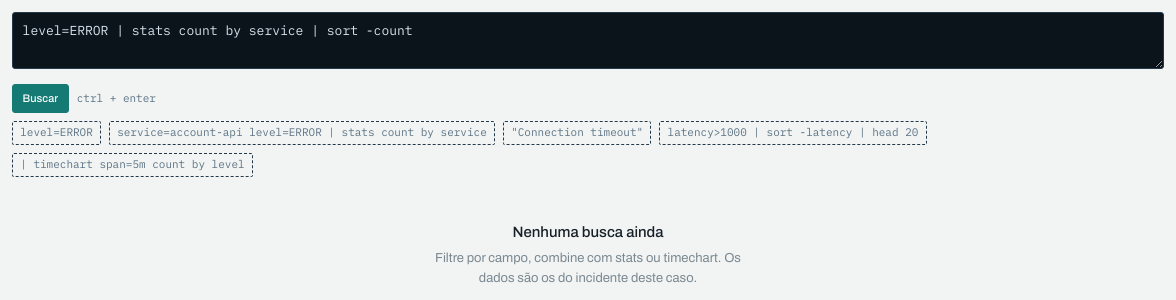
Scenario: LogSearch › mostra o erro de sintaxe da mini-linguagem em vez de sumir com tudo
This screenshot has width=1176, height=300.
Click the button "Buscar" at (40, 99), box [12,84,69,113]
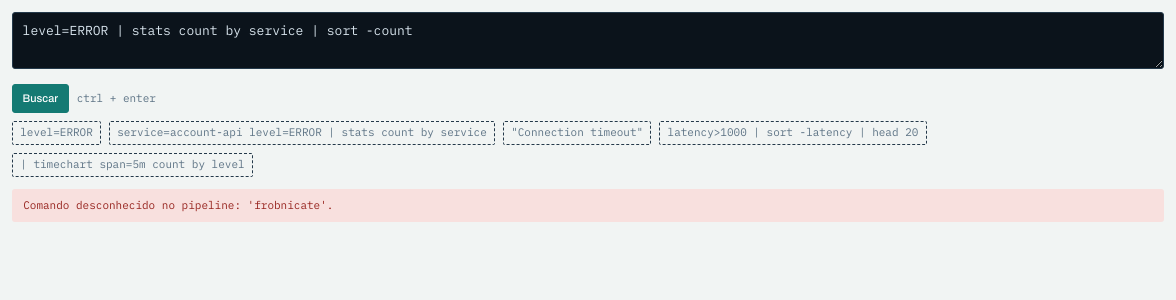
Now the message shows "frobnicate", box [23,198,333,212]
